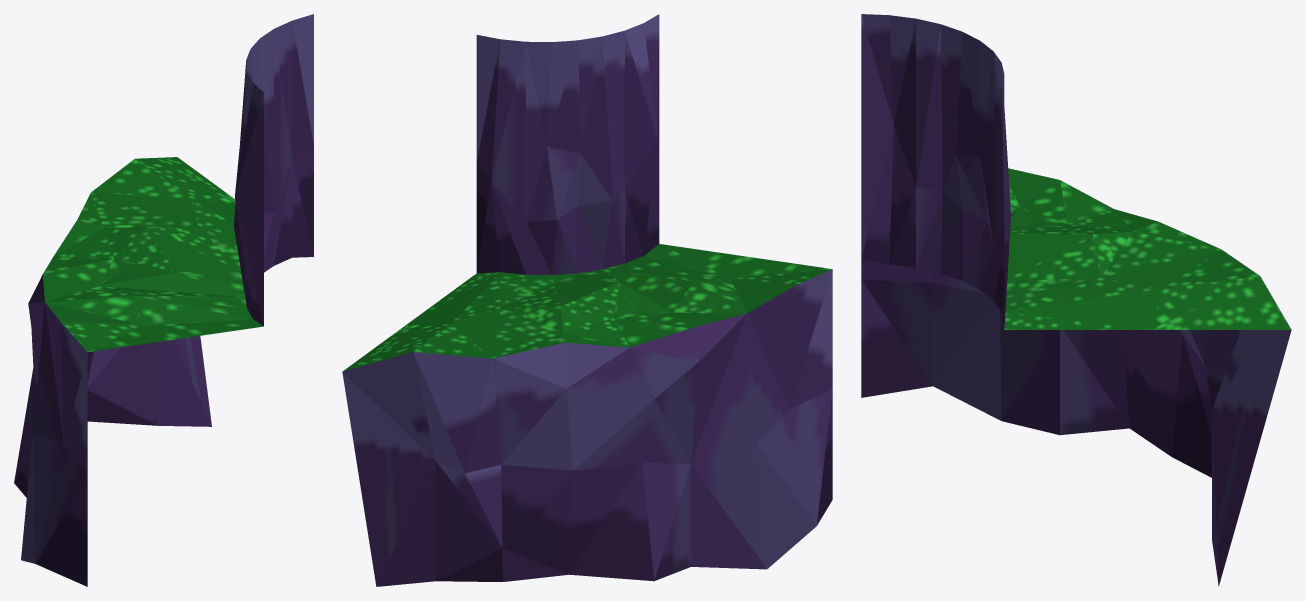
Rendered from Mapa Verde 4.fbx.
The picture shows the model from 3 angles, left to right: view 1: azimuth 30°, elevation 25°; view 2: azimuth 150°, elevation 25°; view 3: azimuth 270°, elevation 25°; orthographic projection. The views are drawn at different scales.
Parts seen in each view (by area): view 1: Mapa4; view 2: Mapa4; view 3: Mapa4.
Part boxes in pixels (box(x1,y1,x2,y2)): Mapa4: box(14, 14, 313, 586); Mapa4: box(342, 14, 832, 586); Mapa4: box(861, 14, 1291, 586).
Bounding box in the file's own units: 21214 × 24080 × 31643.
Materials: 1 (1 with a texture image).
